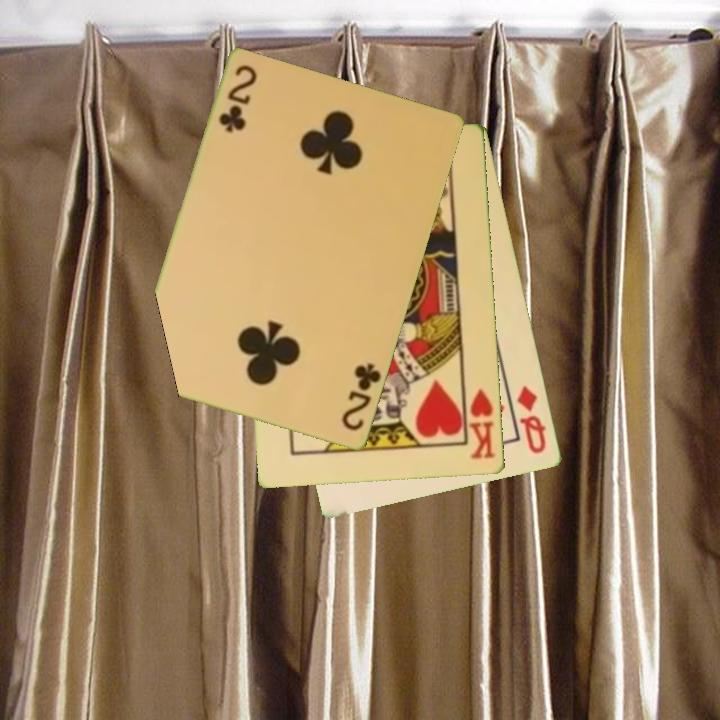2c: (338, 359, 384, 434), (215, 61, 260, 136)
Kh: (461, 382, 499, 463)
Qd: (514, 382, 550, 457)
